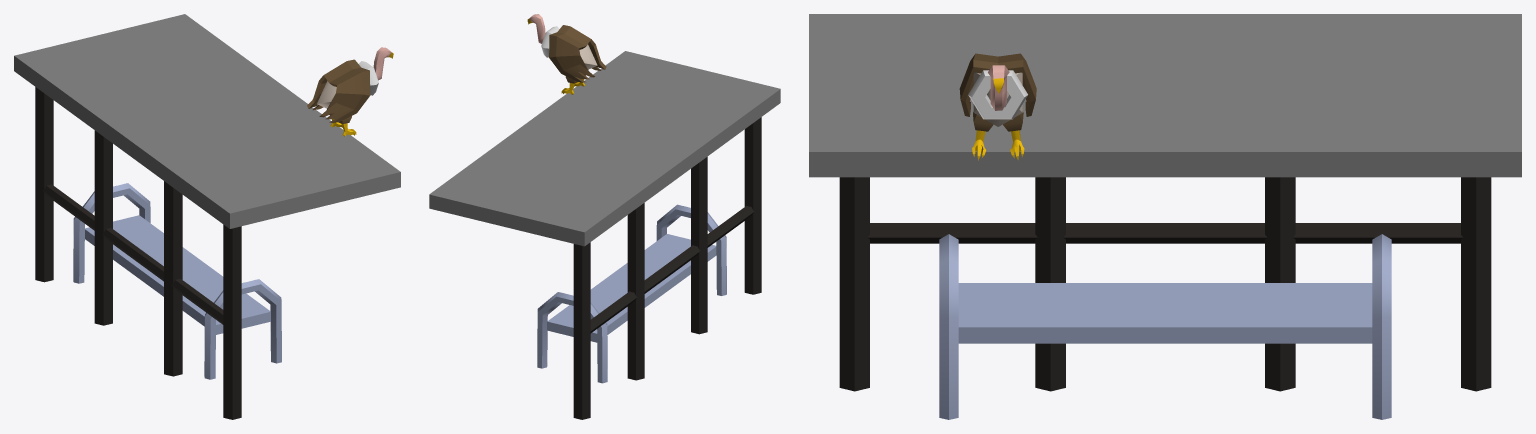
Rendered from 沙漠公交站.fbx.
3 views of the same model, side by side, from view 1: azimuth 30°, elevation 25°; view 2: azimuth 150°, elevation 25°; view 3: azimuth 270°, elevation 25° (orthographic). The views are drawn at different scales.
Visible parts, largest first — view 1: pCube48; view 2: pCube48; view 3: pCube48.
Boxes of the visible parts, box(x1,y1,x2,y2) form: pCube48: box(14, 14, 400, 419); pCube48: box(429, 14, 780, 419); pCube48: box(809, 14, 1521, 419).
Size of the model in its own units: 524 by 654 by 889.
